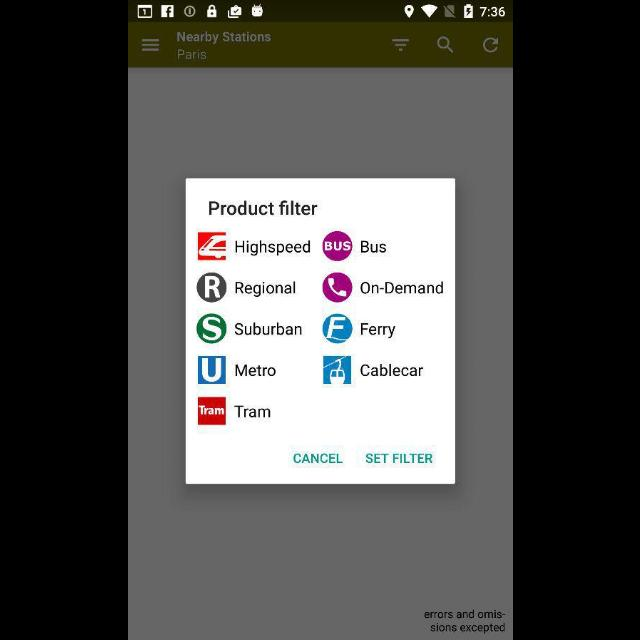icon: (436, 36, 454, 54), (482, 37, 498, 54), (391, 40, 409, 52), (141, 40, 159, 52)
image: (322, 272, 352, 304), (196, 314, 227, 344), (322, 232, 352, 262), (322, 314, 352, 344), (196, 273, 226, 303), (197, 396, 225, 426), (198, 232, 226, 262), (323, 356, 351, 384), (197, 356, 225, 384)
panel: (185, 178, 455, 484)
text: (424, 610, 504, 634), (208, 201, 318, 215), (176, 32, 270, 46), (235, 241, 309, 257), (360, 282, 442, 294), (235, 281, 295, 297), (234, 322, 302, 336), (359, 364, 423, 376), (364, 453, 432, 463), (233, 404, 270, 418), (293, 453, 343, 463), (235, 365, 275, 377), (360, 324, 394, 338), (360, 241, 386, 253), (177, 50, 206, 60)
uppertaskbar: (128, 1, 512, 23)
